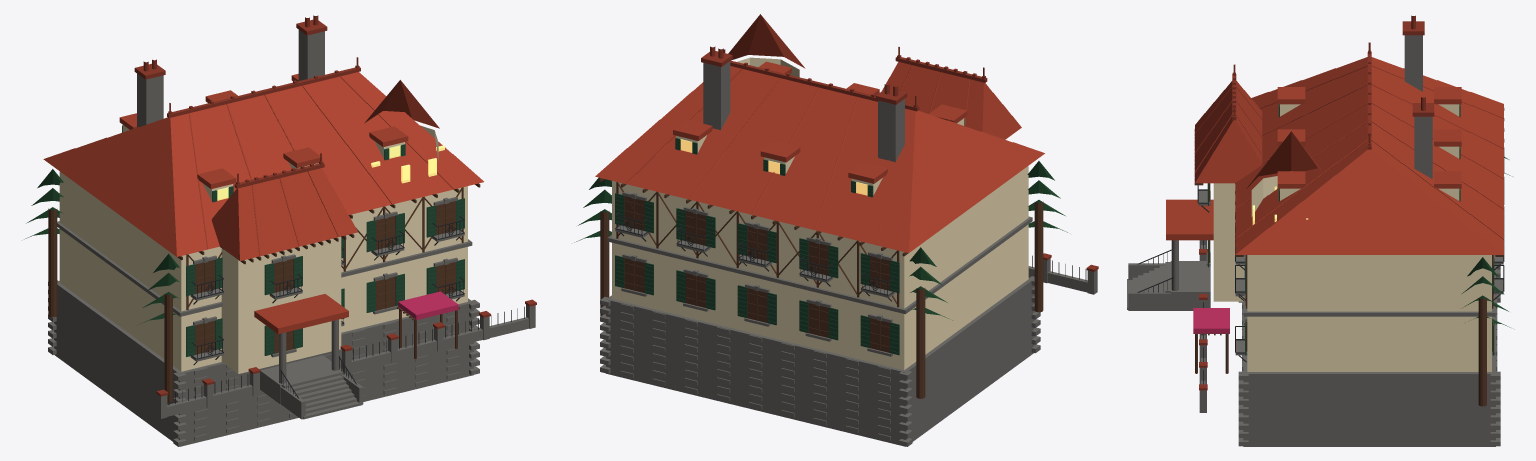
Rendered from fv_ch_02_crazy_house_original_french_villa_1930.glb.
The picture shows the model from 3 angles, left to right: view 1: azimuth 30°, elevation 25°; view 2: azimuth 150°, elevation 25°; view 3: azimuth 270°, elevation 25°; orthographic projection. The views are drawn at different scales.
Visible parts, largest first — view 1: marseille_corrugated_roof_tiles, granite_foundation_and_stairs, stucco_facade_and_dormers, colombage_timber_and_eaves, pine_green_louvered_shutters, ridge_cresting_and_chimneys, wrought_iron_balconies_3d, pine_trees_and_garden_hedges, bougainvillea_pergola_clusters, warm_night_windows_ffb86c; view 2: marseille_corrugated_roof_tiles, granite_foundation_and_stairs, stucco_facade_and_dormers, colombage_timber_and_eaves, pine_green_louvered_shutters, ridge_cresting_and_chimneys, pine_trees_and_garden_hedges, wrought_iron_balconies_3d; view 3: marseille_corrugated_roof_tiles, stucco_facade_and_dormers, granite_foundation_and_stairs, colombage_timber_and_eaves, ridge_cresting_and_chimneys, bougainvillea_pergola_clusters, wrought_iron_balconies_3d, pine_trees_and_garden_hedges, pine_green_louvered_shutters.
Part boxes in pixels (left/top/right/bottom): marseille_corrugated_roof_tiles: left=43, top=72, right=483, bottom=334; granite_foundation_and_stairs: left=48, top=30, right=535, bottom=446; stucco_facade_and_dormers: left=59, top=125, right=467, bottom=373; colombage_timber_and_eaves: left=48, top=183, right=480, bottom=402; pine_green_louvered_shutters: left=122, top=125, right=464, bottom=356; ridge_cresting_and_chimneys: left=134, top=15, right=536, bottom=396; wrought_iron_balconies_3d: left=168, top=216, right=524, bottom=405; pine_trees_and_garden_hedges: left=24, top=169, right=179, bottom=323; bougainvillea_pergola_clusters: left=398, top=291, right=458, bottom=320; warm_night_windows_ffb86c: left=216, top=145, right=444, bottom=200; marseille_corrugated_roof_tiles: left=595, top=14, right=1044, bottom=252; granite_foundation_and_stairs: left=600, top=61, right=1097, bottom=446; stucco_facade_and_dormers: left=612, top=57, right=1028, bottom=370; colombage_timber_and_eaves: left=599, top=178, right=1043, bottom=398; pine_green_louvered_shutters: left=615, top=119, right=964, bottom=355; ridge_cresting_and_chimneys: left=701, top=46, right=1098, bottom=271; pine_trees_and_garden_hedges: left=574, top=161, right=1067, bottom=320; wrought_iron_balconies_3d: left=615, top=211, right=1086, bottom=301; marseille_corrugated_roof_tiles: left=1166, top=57, right=1504, bottom=254; stucco_facade_and_dormers: left=1213, top=104, right=1491, bottom=371; granite_foundation_and_stairs: left=1127, top=35, right=1503, bottom=446; colombage_timber_and_eaves: left=1194, top=108, right=1504, bottom=406; ridge_cresting_and_chimneys: left=1199, top=15, right=1434, bottom=390; bougainvillea_pergola_clusters: left=1193, top=308, right=1229, bottom=333; wrought_iron_balconies_3d: left=1137, top=147, right=1504, bottom=384; pine_trees_and_garden_hedges: left=1462, top=157, right=1514, bottom=329; pine_green_louvered_shutters: left=1207, top=104, right=1494, bottom=355.
Bounding box in the file's own units: 25.77 × 20.33 × 23.25.
